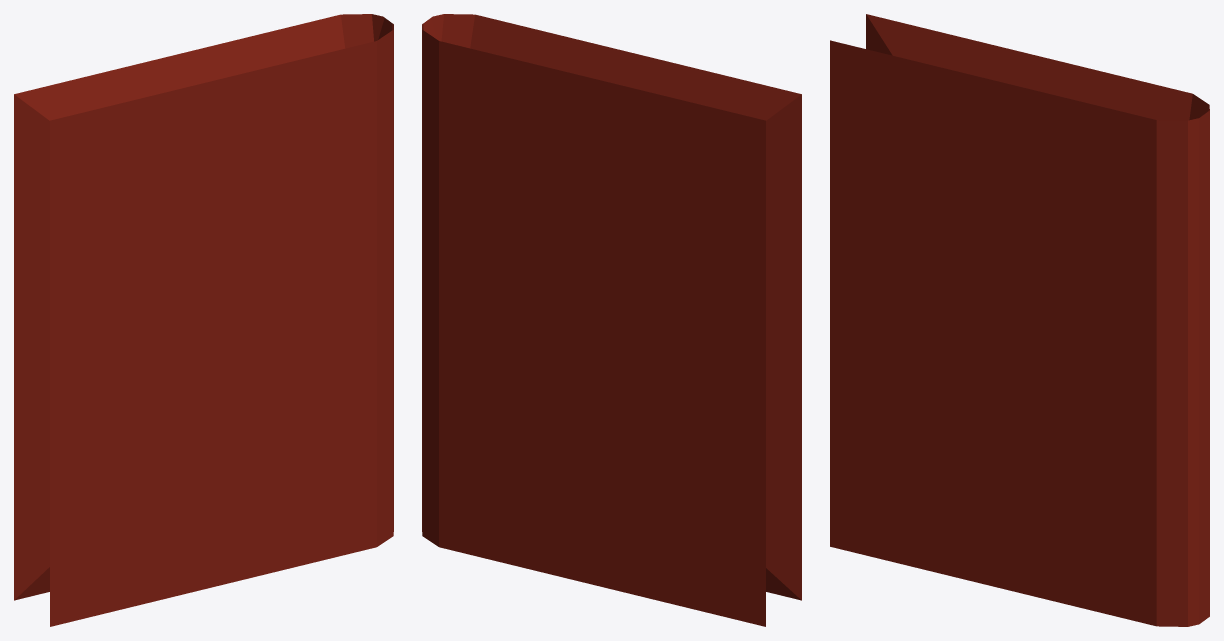
Rendered from book.fbx.
3 renders of one model, left to right at view 1: azimuth 30°, elevation 25°; view 2: azimuth 150°, elevation 25°; view 3: azimuth 330°, elevation 25°, orthographic.
Visible parts, largest first — view 1: Cube; view 2: Cube; view 3: Cube.
Part boxes in pixels (x1,y1,x2,y2): Cube: [14, 14, 393, 626]; Cube: [422, 14, 801, 626]; Cube: [830, 14, 1209, 626].
Size of the model in its own units: 241 by 327 by 42.2.
